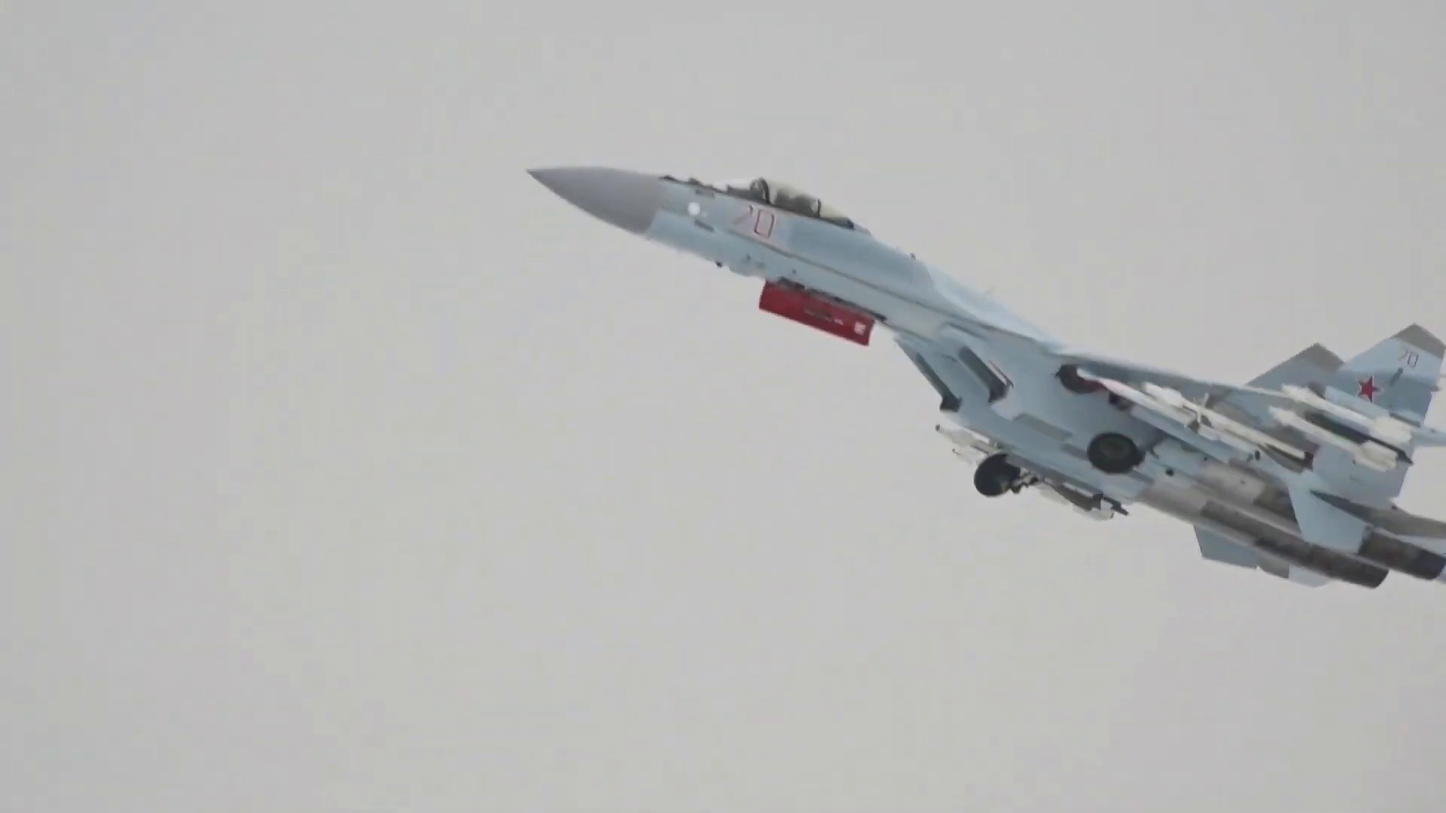Su35: (524, 167, 1444, 597)
